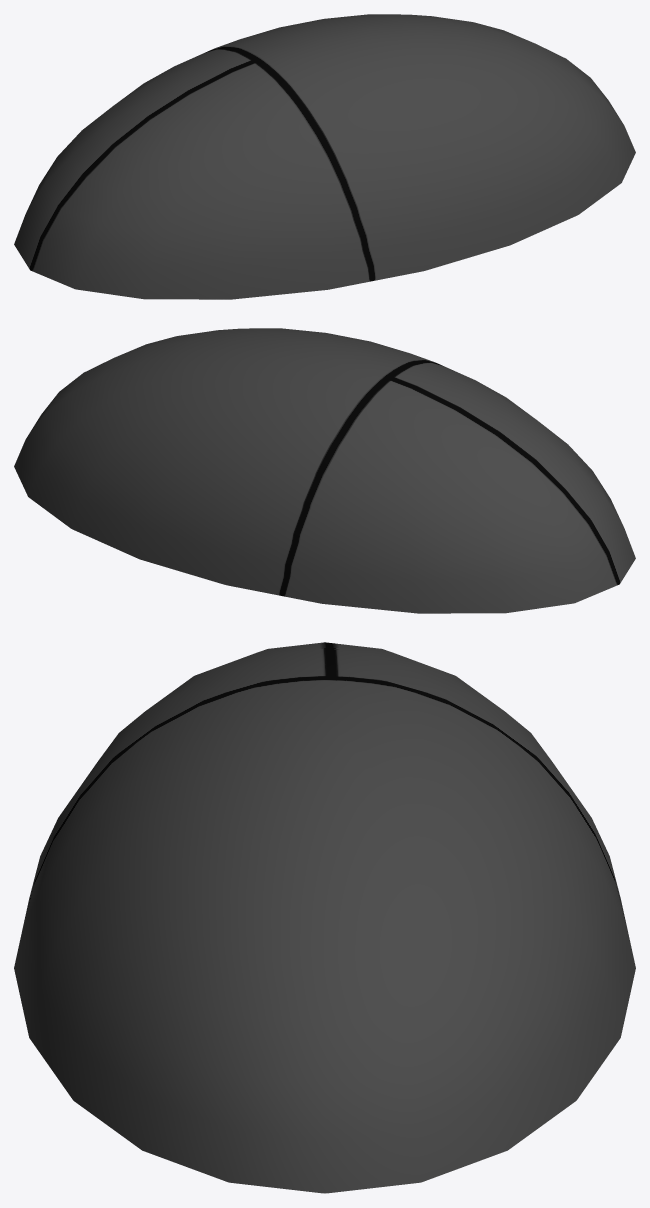
File: mouse.obj
3 renders of one model, top to bottom at view 1: azimuth 30°, elevation 25°; view 2: azimuth 150°, elevation 25°; view 3: azimuth 270°, elevation 25°, orthographic. The views are drawn at different scales.
Visible parts, largest first — view 1: pSphere1; view 2: pSphere1; view 3: pSphere1.
Part boxes in pixels (bbox=[...]): pSphere1: bbox=[14, 14, 635, 299]; pSphere1: bbox=[14, 328, 635, 613]; pSphere1: bbox=[14, 642, 635, 1193].
Bounding box in the file's own units: 0.4496 × 0.1152 × 0.2621.
Materials: 1 (1 with a texture image).
